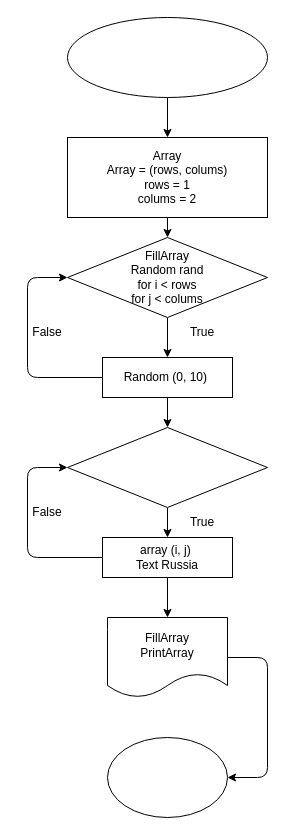
Image size: 293x835. Some labels were removed from this diagram. The shapes that lost their labels are listed below. From the top down, each one's centre as x and y in pixels, then its label:
pixel 167 57: Start
pixel 167 467: PrintArray for i < rows for j < colums
pixel 167 777: End
